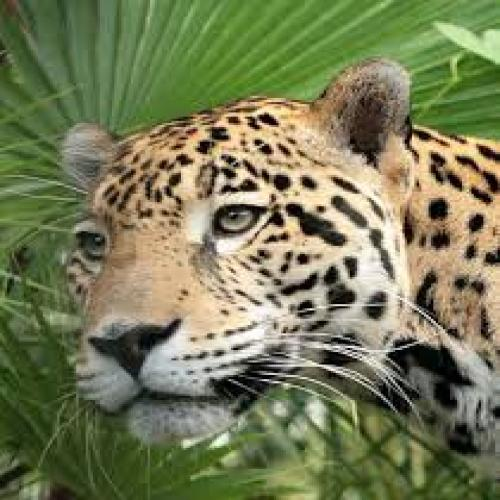jaguar_not-endangered: (72, 87, 500, 431)
